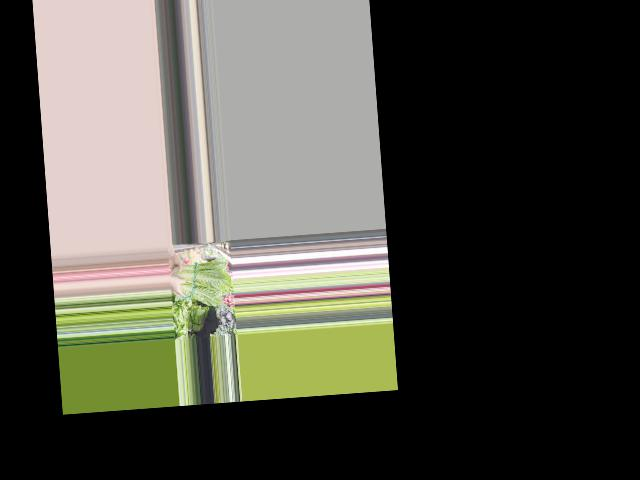lettuce: (167, 258, 230, 310)
